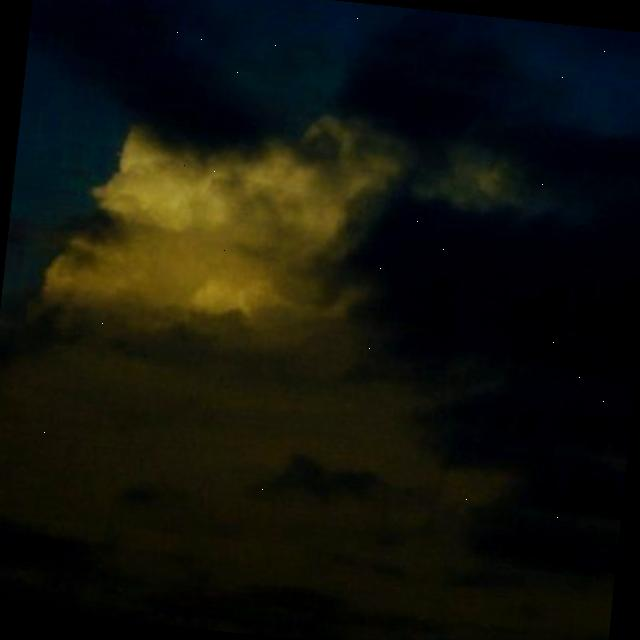St: (1, 1, 640, 603)
